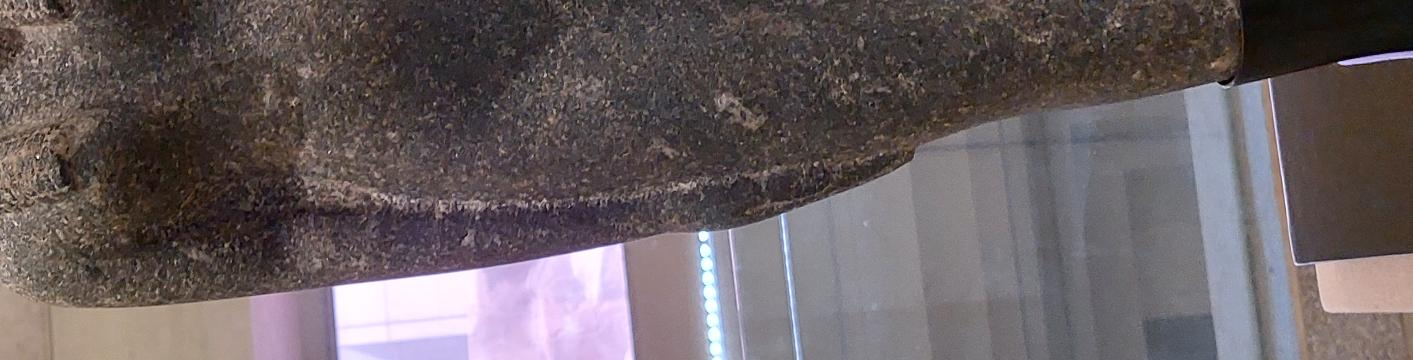RoyalStatues: (0, 0, 249, 360)
